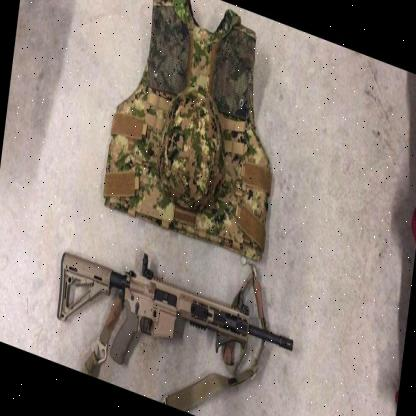rifle: (45, 230, 298, 416)
